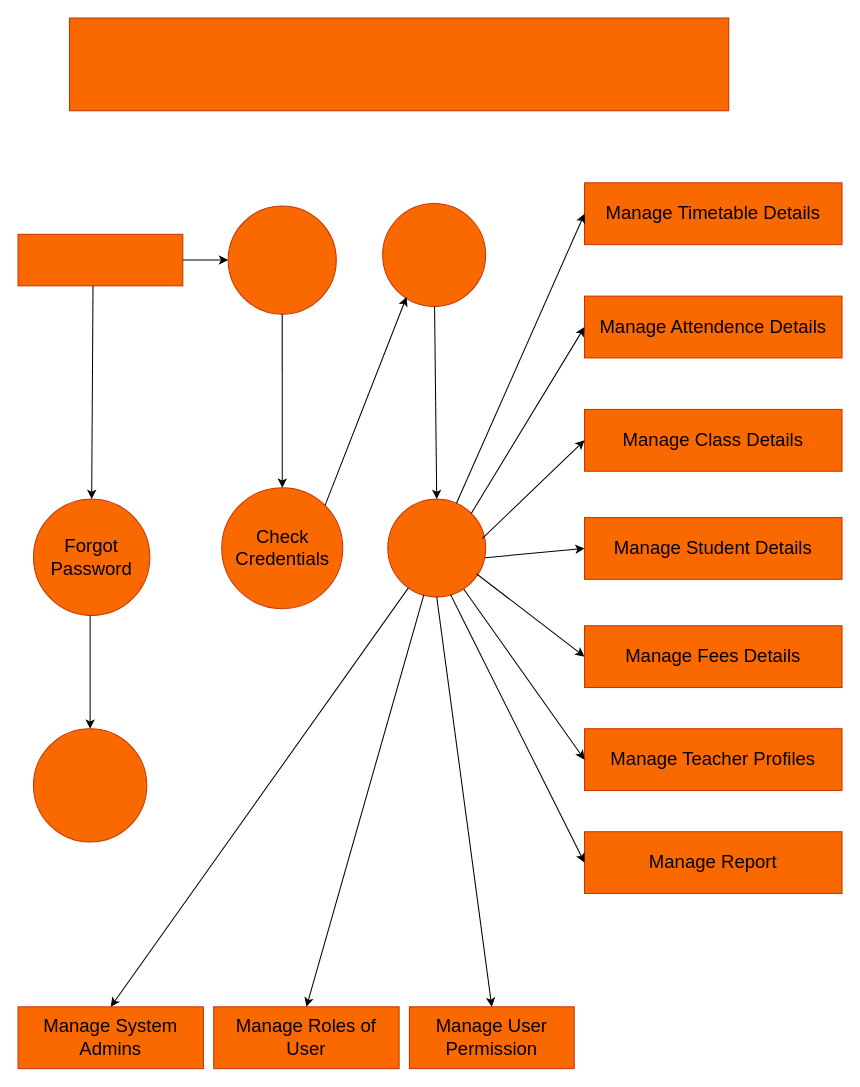
The diagram is 860 pixels wide and 1087 high, and some of its shapes have lost their labels. The centre of each missing label's shape, as x and y in pixels:
Admin: pixel 100 259
Check Rolesof Access: pixel 434 254
Login to System: pixel 281 259
Manage Modules: pixel 436 547
Send Email to Password: pixel 89 785
Student Information System: pixel 398 64
